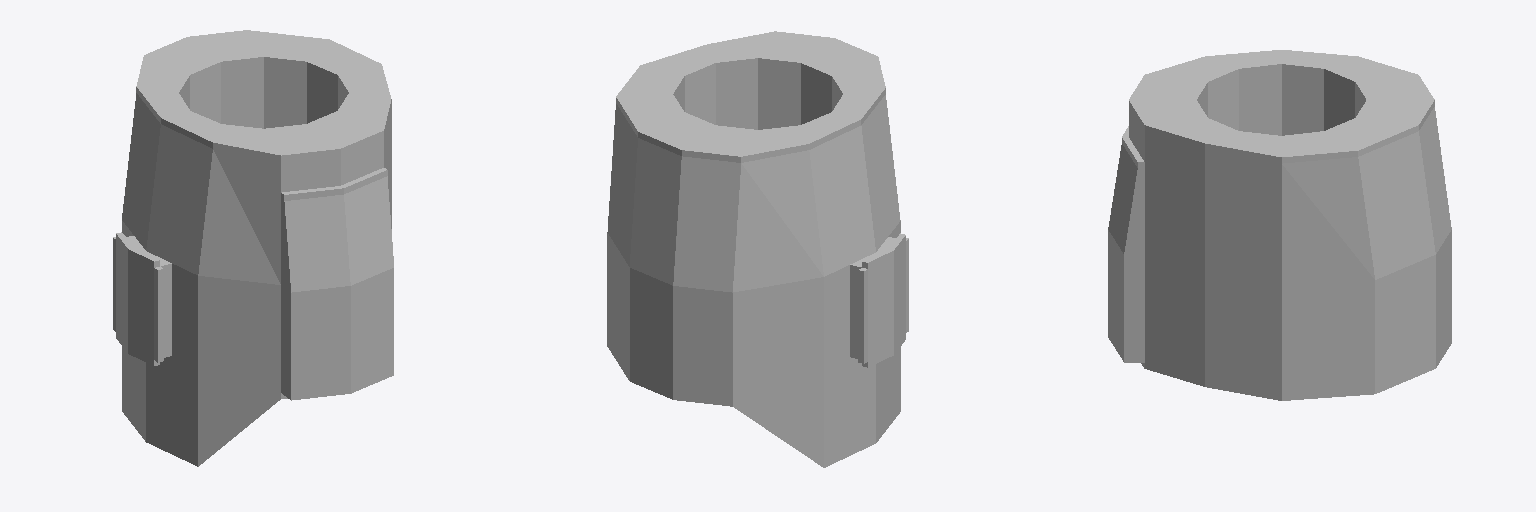
File: UpperArm-Soldier.obj
The picture shows the model from 3 angles: view 1: azimuth 30°, elevation 25°; view 2: azimuth 150°, elevation 25°; view 3: azimuth 270°, elevation 25°; orthographic projection.
Visible parts, largest first — view 1: UpperArm-Soldier; view 2: UpperArm-Soldier; view 3: UpperArm-Soldier.
Boxes of the visible parts, x1=… form: UpperArm-Soldier: x1=113, y1=30, x2=393, y2=466; UpperArm-Soldier: x1=607, y1=31, x2=908, y2=467; UpperArm-Soldier: x1=1108, y1=50, x2=1451, y2=400.
Size of the model in its own units: 0.8602 by 1.04 by 1.01.